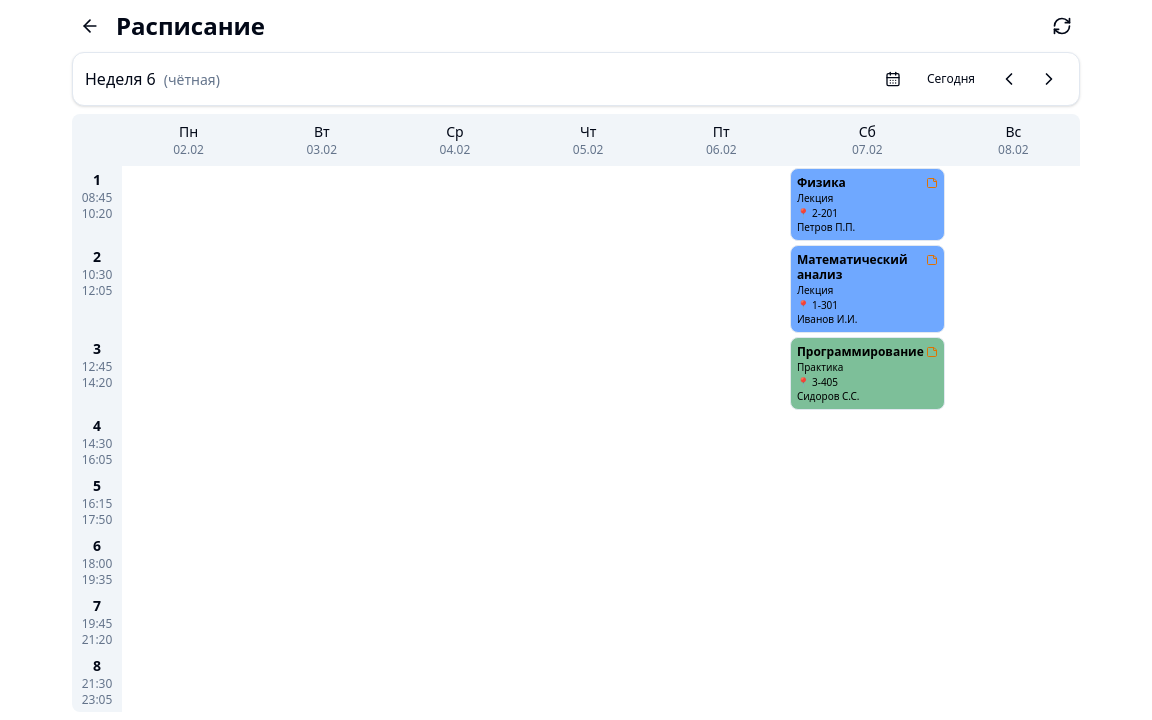
Test: SchedulePage › can close lesson modal
Expected: the text "Математический анализ" is shown, top-left (797, 252), bottom-right (924, 282)
Click the button "Математический анализ Лекция 📍 1-301 Иванов И.И." at (867, 289), box top-left (790, 245), bottom-right (945, 333)
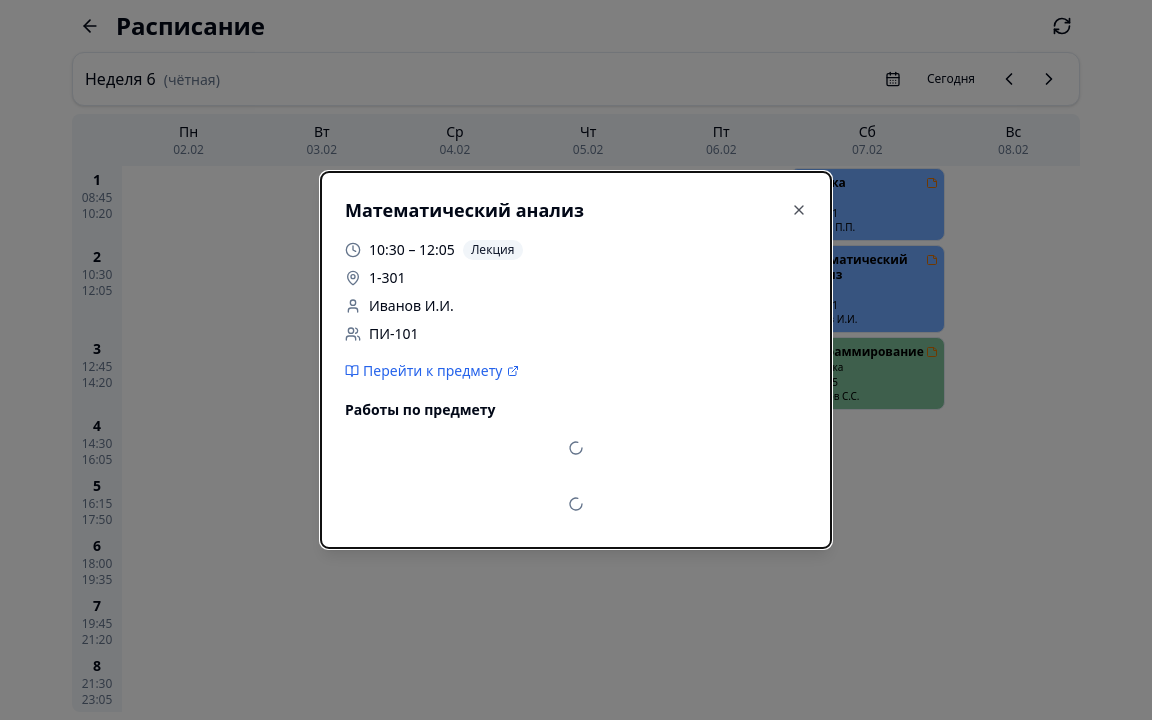
Now the dialog is shown
Note: Close modal
Click the button named "Закрыть" at (799, 210), box top-left (791, 202), bottom-right (807, 218)
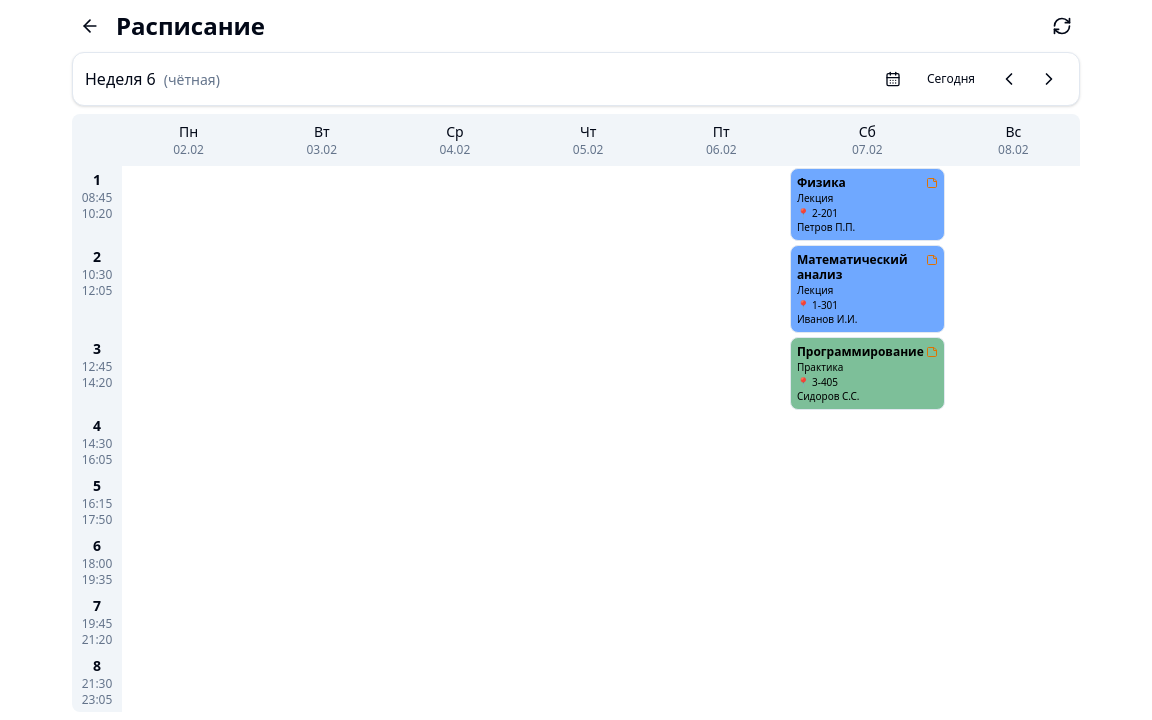
Now the dialog is gone
